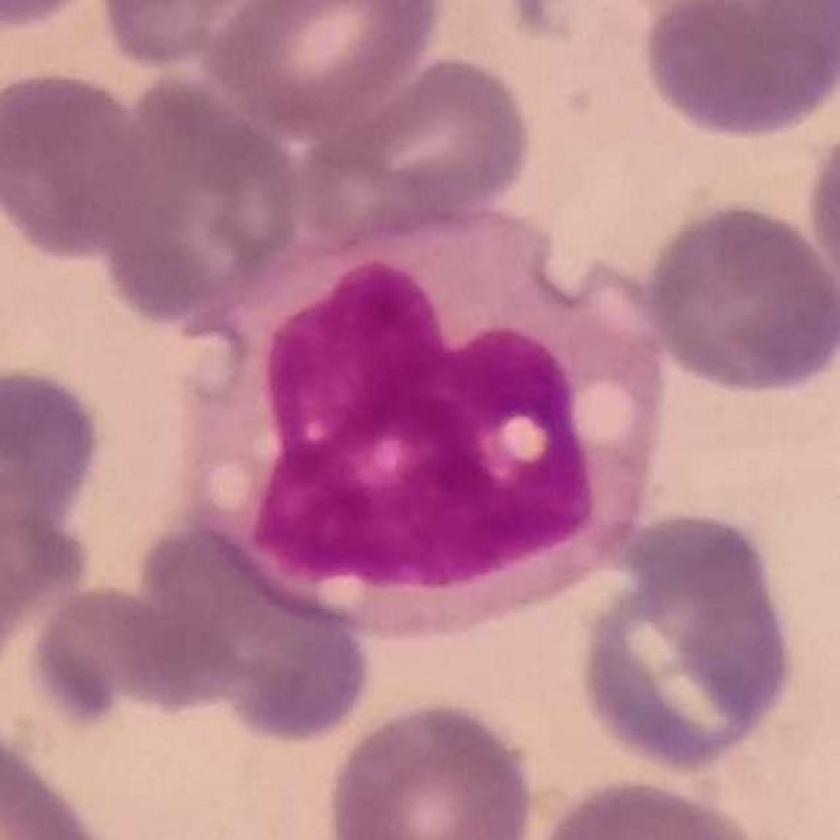monocyte: (193, 207, 680, 632)
